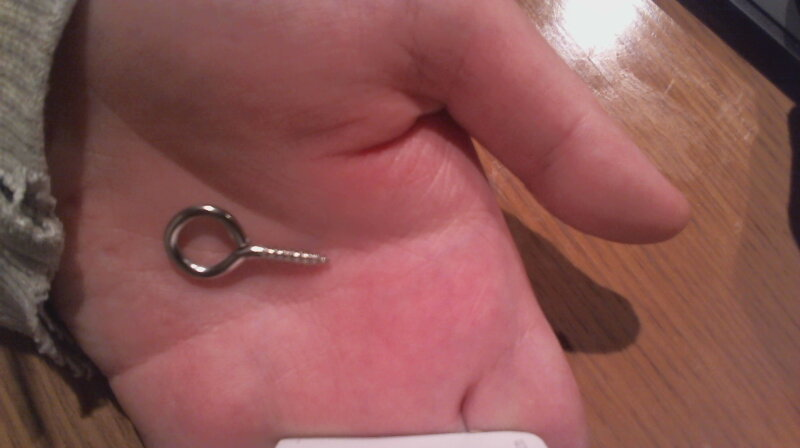O001: (156, 199, 332, 286)
